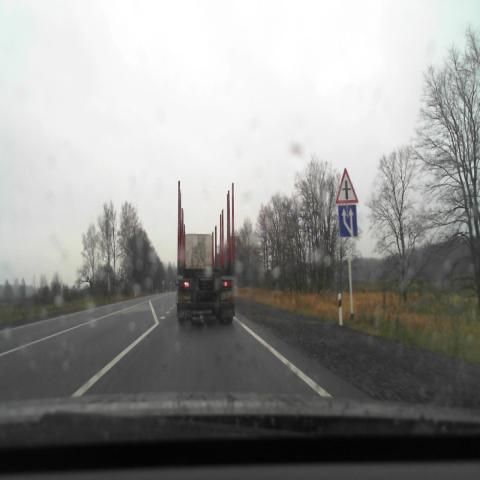2_3: (336, 167, 358, 204)
